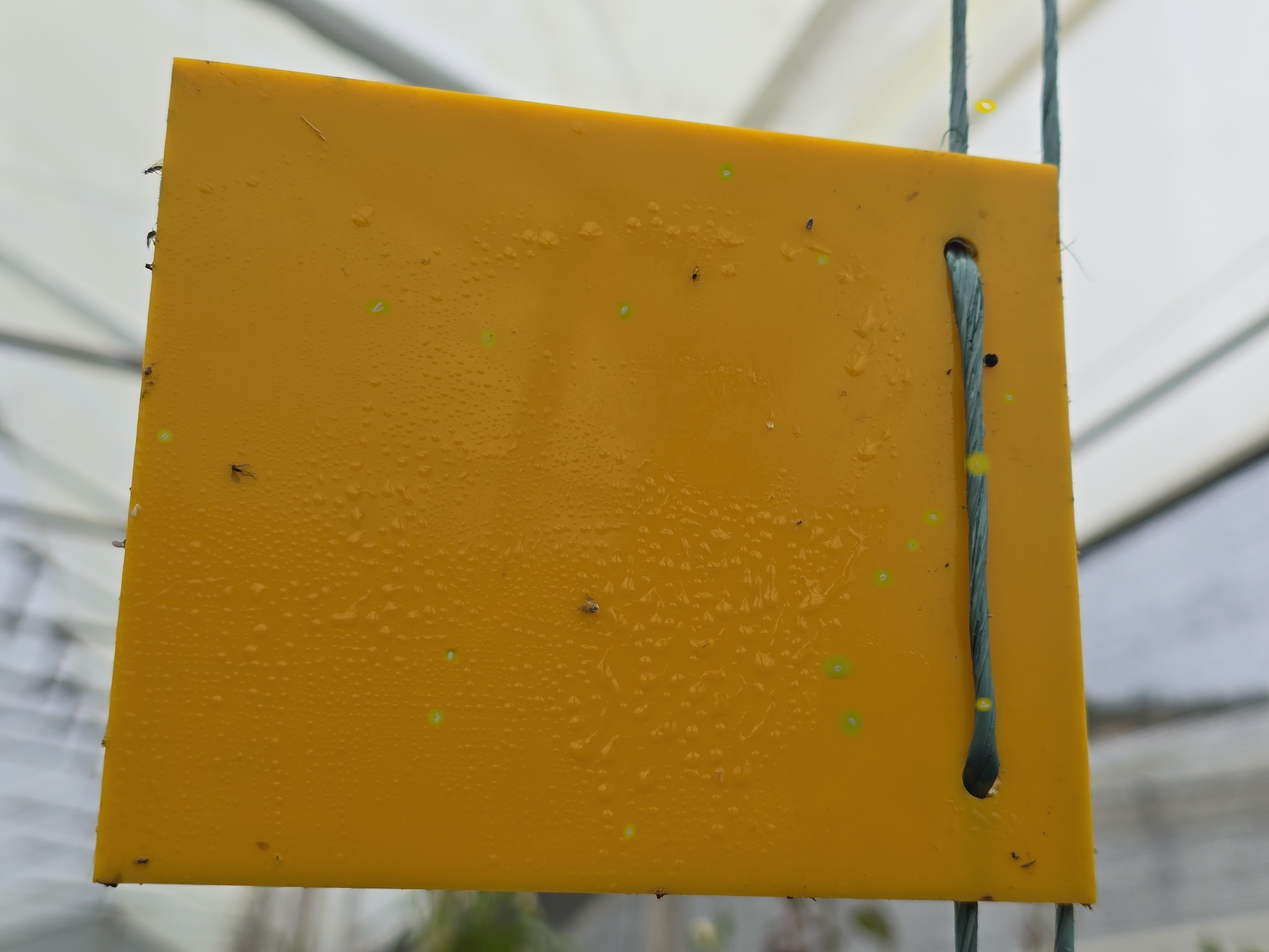WF: (841, 712, 860, 733), (826, 658, 848, 675), (968, 454, 988, 472), (875, 570, 891, 585), (368, 301, 388, 313), (925, 510, 941, 524), (720, 164, 733, 179), (132, 503, 144, 519), (481, 331, 494, 345), (977, 101, 993, 111), (620, 304, 631, 318), (430, 711, 441, 724), (977, 699, 990, 709), (446, 650, 457, 660), (907, 540, 917, 551), (159, 431, 170, 441), (765, 421, 775, 431), (1004, 392, 1013, 402), (625, 826, 634, 836), (818, 256, 826, 264)
